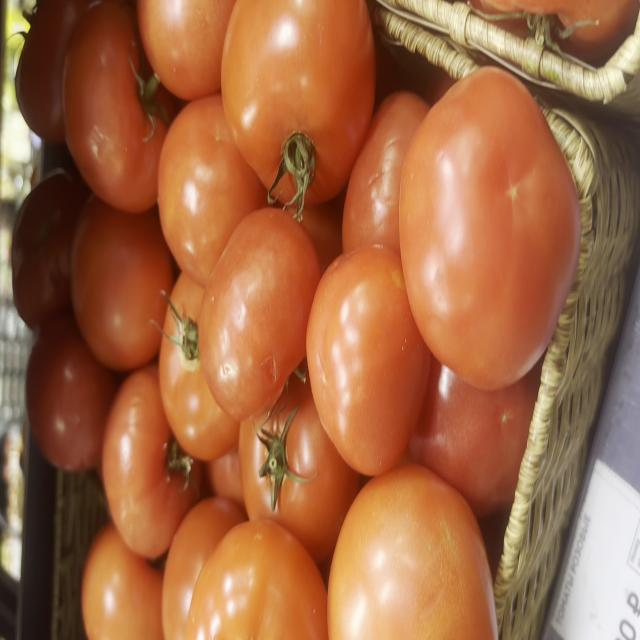tomato: (399, 66, 580, 390), (221, 0, 376, 221), (328, 465, 498, 640), (306, 245, 430, 476), (199, 207, 321, 421), (62, 2, 176, 212), (239, 373, 359, 562), (410, 357, 542, 517), (158, 95, 268, 286), (102, 364, 201, 558), (71, 196, 174, 371), (186, 521, 328, 640), (159, 274, 239, 461), (26, 313, 118, 472), (342, 93, 429, 254), (11, 170, 89, 329), (162, 496, 245, 640), (470, 0, 640, 65), (15, 0, 89, 143), (81, 523, 164, 640), (138, 0, 235, 100), (208, 446, 244, 507)
